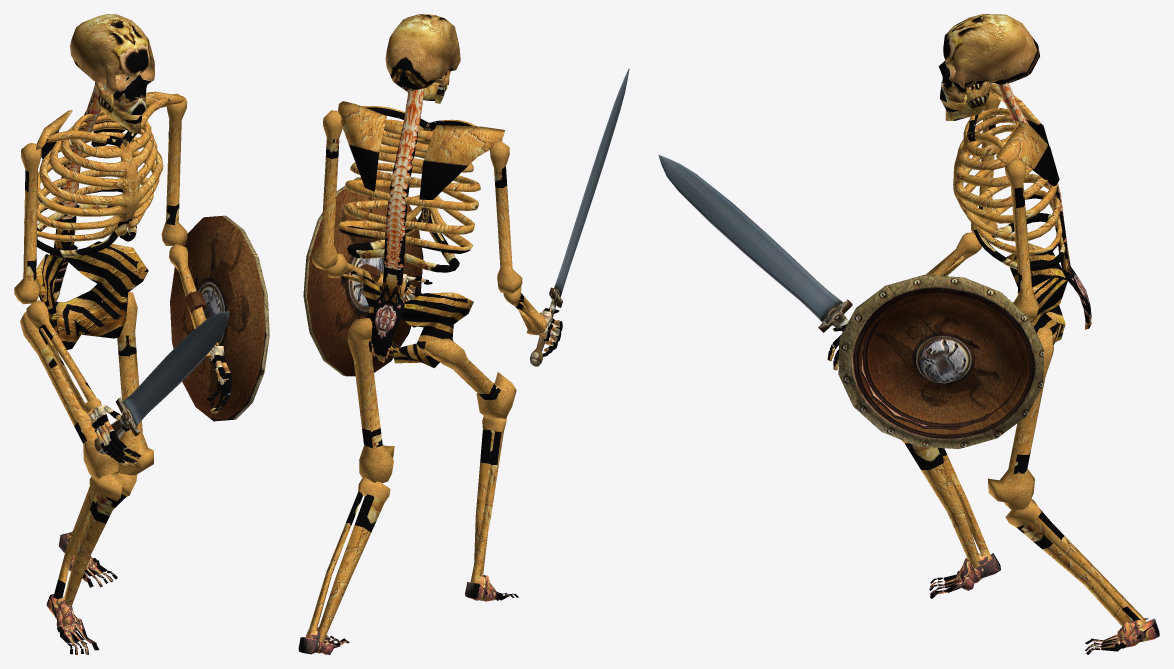
The model's file is Skeleton_000016.obj.
The picture shows the model from 3 angles, left to right: view 1: azimuth 30°, elevation 25°; view 2: azimuth 150°, elevation 25°; view 3: azimuth 270°, elevation 25°; orthographic projection. The views are drawn at different scales.
Parts seen in each view (by area): view 1: Costillar, Shield_Shield.001, Coxis, Skull, Femur, Humero, Sword, Tibia, Radio, Hands, Feet, Omoplato (+1 smaller); view 2: Costillar, Shield_Shield.001, Tibia, Femur, Omoplato, Humero, Skull, Coxis, Sword, Radio, Feet, Hands (+1 smaller); view 3: Shield_Shield.001, Costillar, Tibia, Sword, Skull, Femur, Humero, Feet, Omoplato, Coxis, Mandibula, Radio.
Part boxes in pixels (x1,y1,x2,y2): Costillar: (24, 84, 170, 301); Shield_Shield.001: (170, 215, 269, 421); Coxis: (36, 241, 148, 349); Skull: (70, 14, 154, 114); Femur: (20, 292, 153, 480); Humero: (14, 93, 187, 304); Sword: (94, 311, 229, 454); Tibia: (53, 472, 137, 605); Radio: (26, 244, 218, 413); Hands: (89, 344, 231, 465); Feet: (46, 532, 117, 654); Omoplato: (35, 91, 186, 163); Costillar: (338, 88, 480, 362); Shield_Shield.001: (303, 177, 423, 376); Tibia: (307, 416, 506, 642); Femur: (347, 318, 516, 482); Omoplato: (337, 101, 504, 199); Humero: (311, 110, 522, 293); Skull: (385, 14, 460, 91); Coxis: (362, 270, 473, 368); Sword: (530, 68, 629, 366); Radio: (326, 253, 546, 335); Feet: (298, 575, 518, 654); Hands: (401, 273, 562, 356); Shield_Shield.001: (838, 275, 1044, 448); Costillar: (953, 83, 1091, 329); Tibia: (901, 440, 1145, 625); Sword: (658, 155, 852, 332); Skull: (938, 14, 1039, 103); Femur: (988, 327, 1053, 509); Humero: (971, 93, 1039, 320); Feet: (929, 553, 1159, 654); Omoplato: (981, 83, 1059, 186); Coxis: (1006, 243, 1067, 345); Mandibula: (941, 81, 991, 120); Radio: (925, 232, 981, 276).
Bounding box in the file's own units: 2.83 × 8.38 × 6.18.
5 materials, 5 textured.
